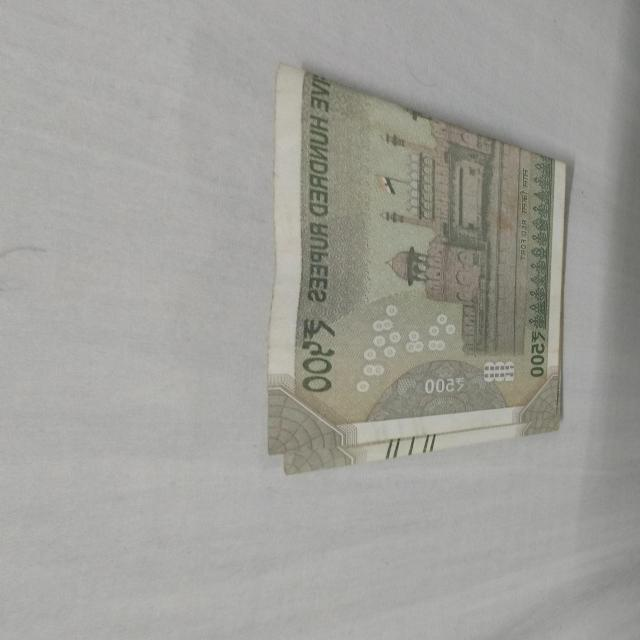Currency: (267, 75, 581, 446)
